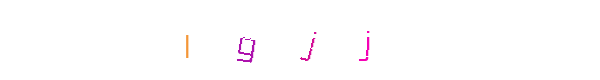G: (242, 0, 322, 80)
J: (250, 0, 330, 80), (260, 0, 340, 80)
L: (146, 0, 226, 80)
